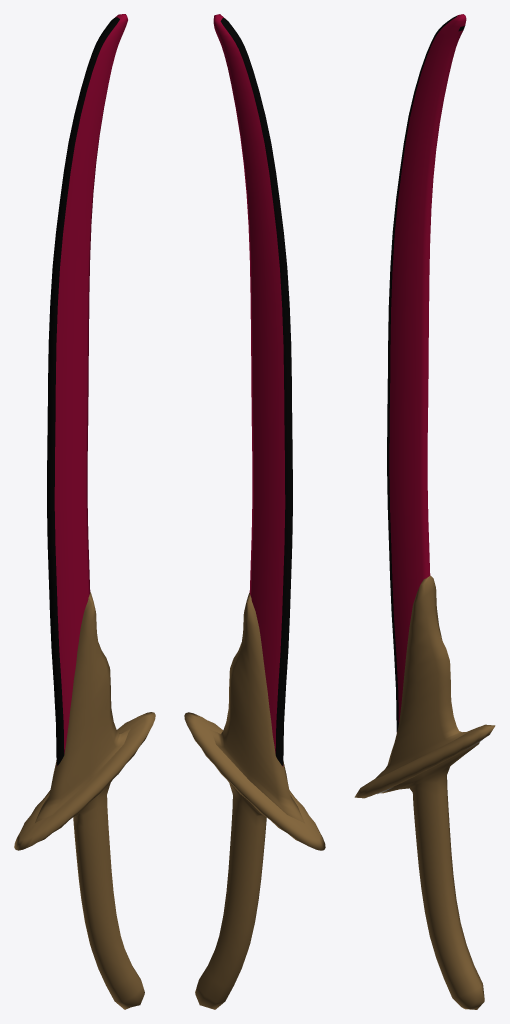
Rendered from bent sword .fbx.
The picture shows the model from 3 angles, left to right: view 1: azimuth 30°, elevation 25°; view 2: azimuth 150°, elevation 25°; view 3: azimuth 330°, elevation 25°; orthographic projection.
Parts seen in each view (by area): view 1: polySurface1; view 2: polySurface1; view 3: polySurface1.
Part boxes in pixels (left/top/right/bottom): polySurface1: left=14, top=14, right=155, bottom=1009; polySurface1: left=184, top=14, right=325, bottom=1009; polySurface1: left=354, top=14, right=495, bottom=1009.
Size of the model in its own units: 0.5091 by 3.49 by 0.1749.
